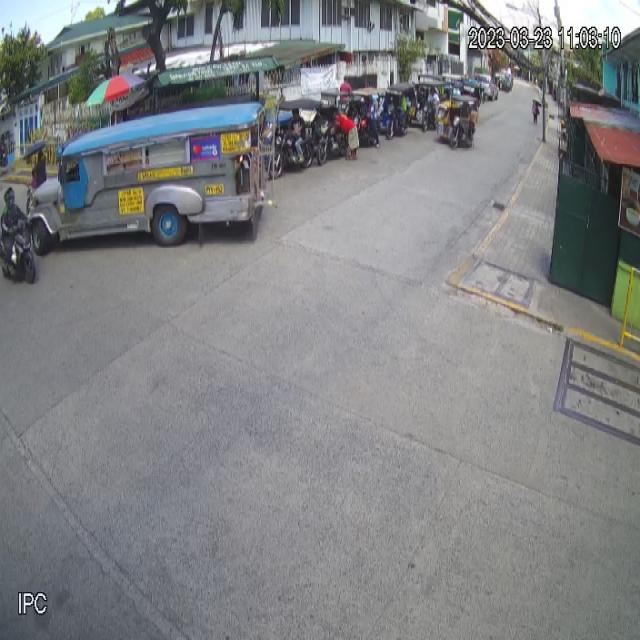Jeep: (28, 98, 264, 257)
Motorcycle: (0, 215, 35, 281)
